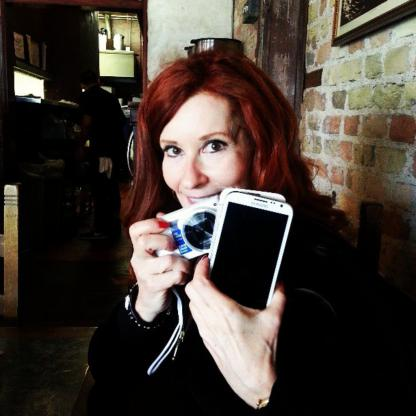Camera: (202, 192, 296, 313), (156, 196, 221, 264)
